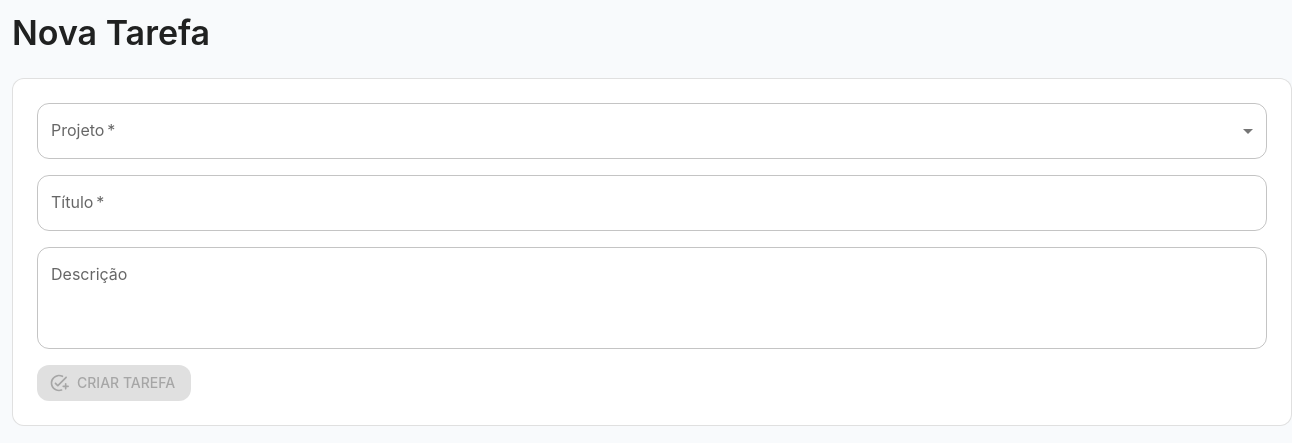
Test: NovaTarefaScreen › mostra loading no botão durante envio
Click the dropdown at (652, 131), box [37,103,1267,159]
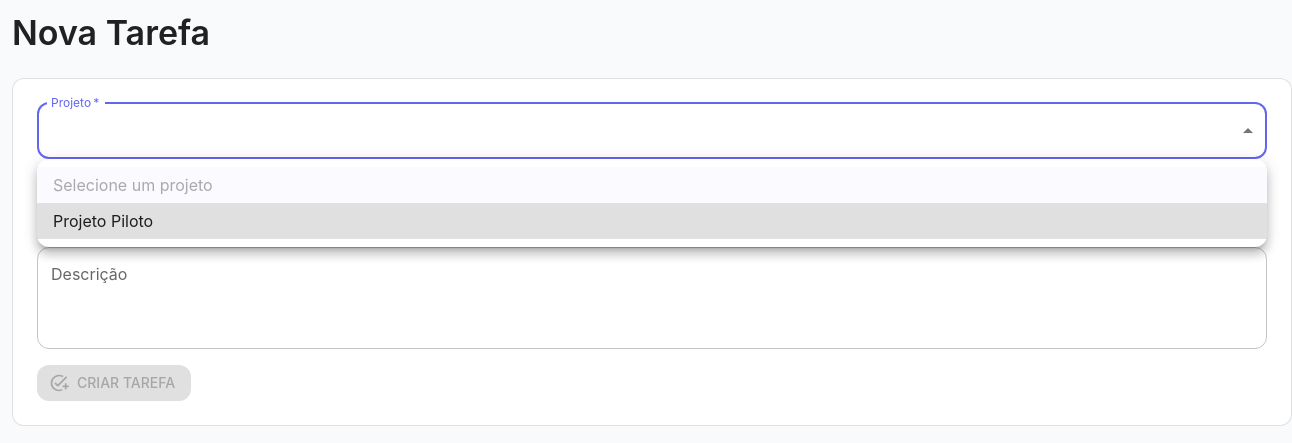
Click the option "Projeto Piloto" at (103, 221), box [37,203,1267,239]
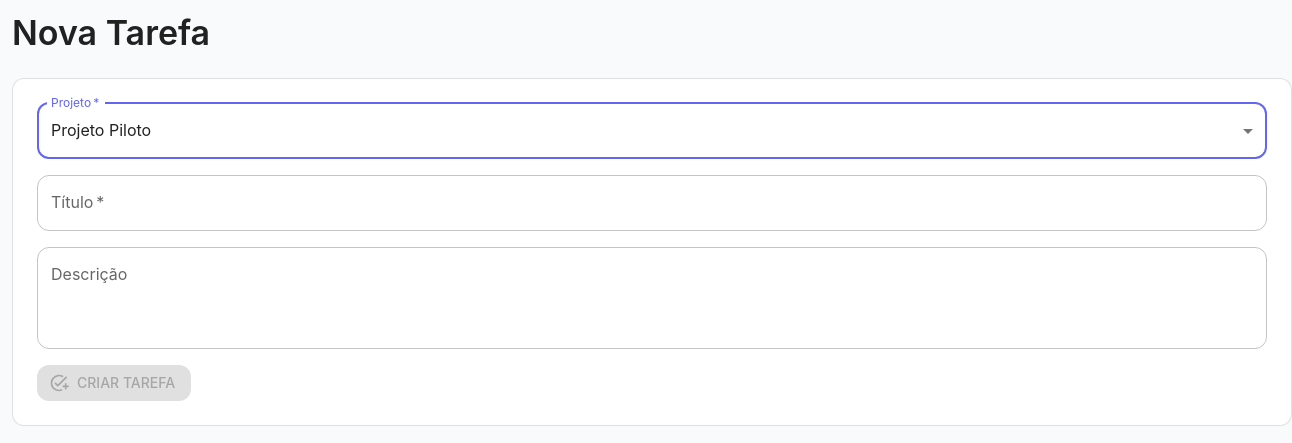
Type "Tarefa longa" into the field with test id "input-titulo" at (652, 203), box [37,175,1267,231]
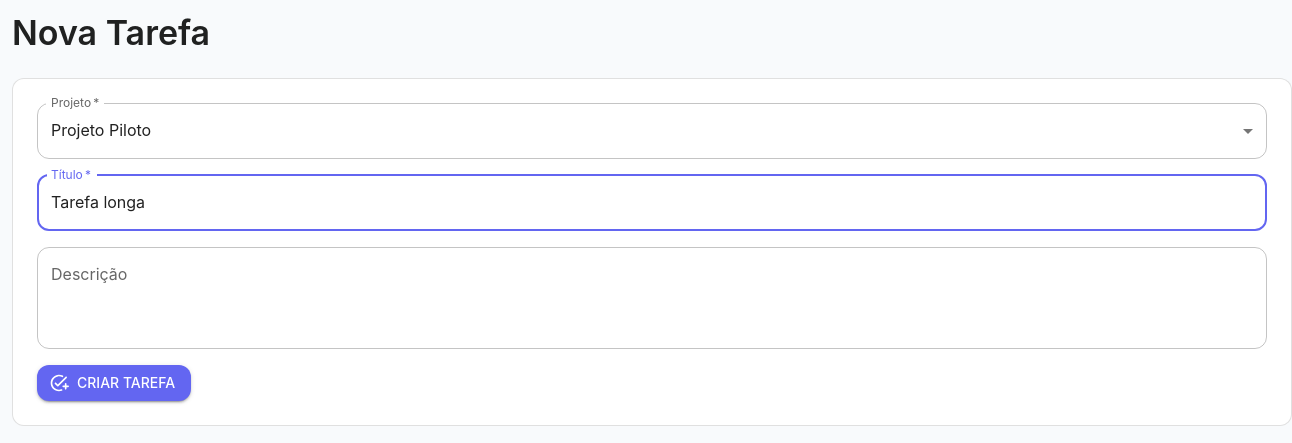
Expected: the button with test id "btn-enviar" is enabled
Click the button with test id "btn-enviar" at (114, 383), box [37,365,191,402]
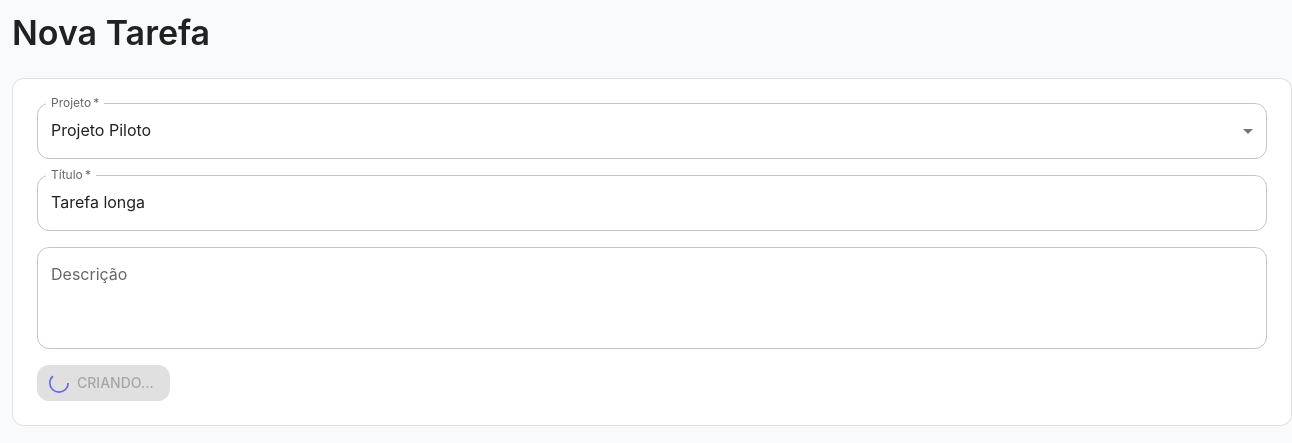
Expected: the button with test id "btn-enviar" is disabled, [37,365,170,402]
Expected: the button with test id "btn-enviar" shows "Criando", [37,365,170,402]
